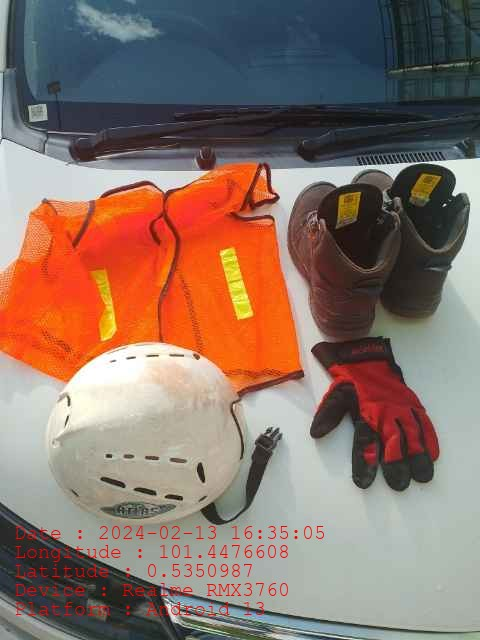HELM: (46, 343, 246, 525)
SARUNG_TANGAN: (307, 336, 441, 493)
SEPATU: (289, 163, 469, 336)
